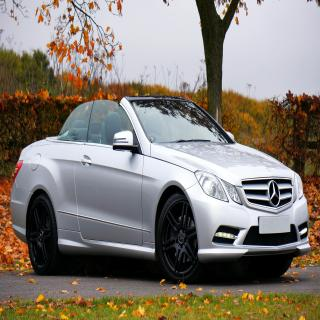Normal_vehicle: (9, 96, 311, 279)
